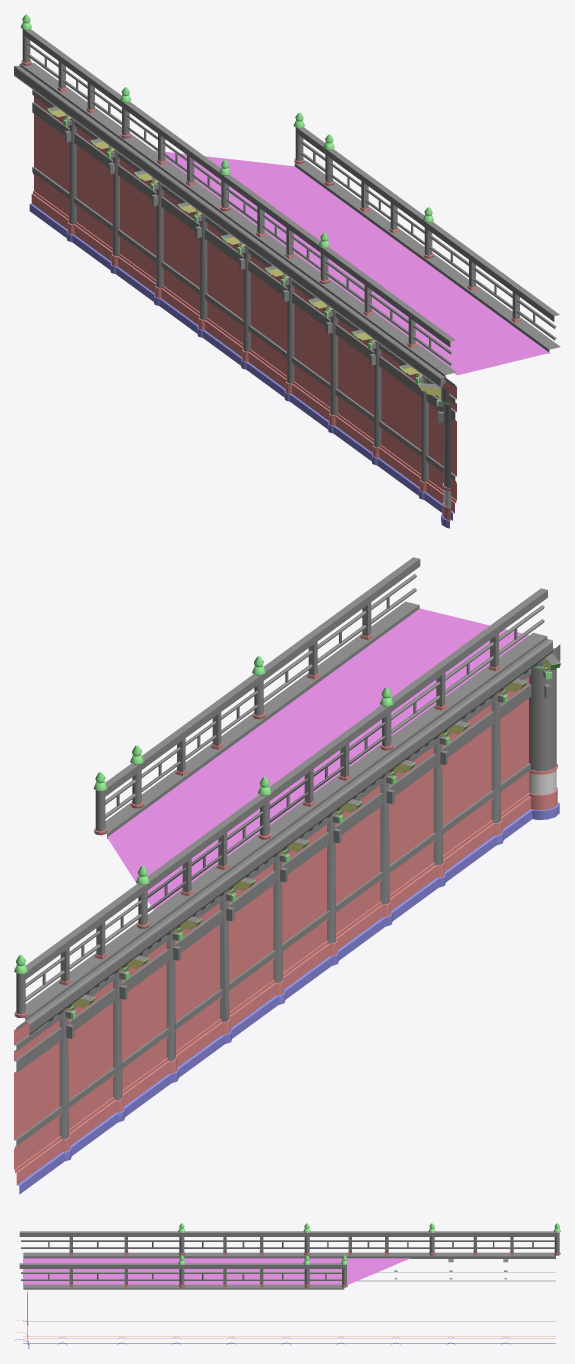
The model's file is SM_ENV_LKNVLD_WallSet_Connector_Lod1.gltf.
3 renders of one model, top to bottom at view 1: azimuth 30°, elevation 25°; view 2: azimuth 150°, elevation 25°; view 3: azimuth 270°, elevation 25°, orthographic. The views are drawn at different scales.
Visible parts, largest first — view 1: SM_ENV_LKNVLD_WallSet_Connector_Lod1; view 2: SM_ENV_LKNVLD_WallSet_Connector_Lod1; view 3: SM_ENV_LKNVLD_WallSet_Connector_Lod1.
Part boxes in pixels (x1,y1,x2,y2): SM_ENV_LKNVLD_WallSet_Connector_Lod1: (14,14,560,528); SM_ENV_LKNVLD_WallSet_Connector_Lod1: (14,557,560,1194); SM_ENV_LKNVLD_WallSet_Connector_Lod1: (14,1223,560,1348).
Size of the model in its own units: 5.82 by 8.12 by 32.56.
